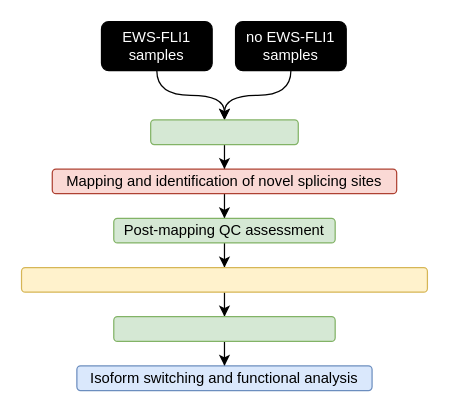
The diagram is 449 pixels wide and 412 high, and some of its shapes have lost their labels. The box of each missing label's shape, as (x1, y1, x2, y2) in pixels:
Initial QC assesment: (149, 119, 298, 145)
Post-assembly QC assessment: (113, 315, 335, 341)
Reference-based transcriptome assembly and quantification: (20, 266, 427, 292)
